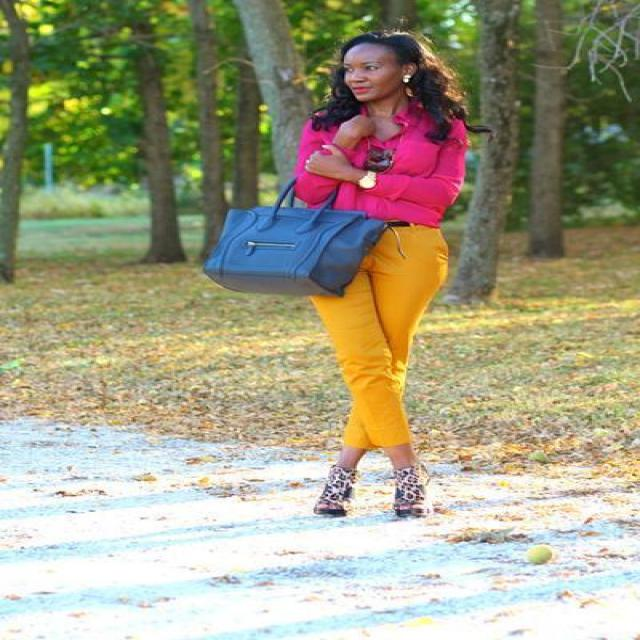bag: (200, 188, 408, 298)
pants: (310, 224, 448, 447)
shirt: (294, 109, 468, 226)
shoe: (288, 464, 426, 518)
